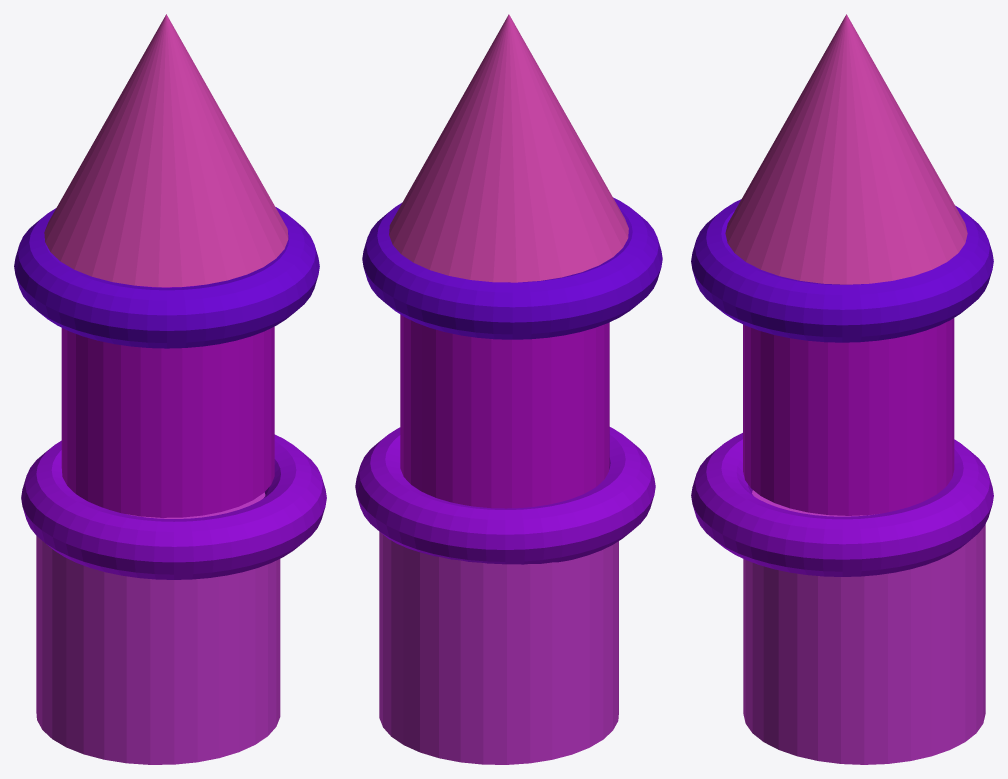
Rendered from quiz1.gltf.
3 views of the same model, side by side, from view 1: azimuth 30°, elevation 25°; view 2: azimuth 150°, elevation 25°; view 3: azimuth 270°, elevation 25° (orthographic).
Visible parts, largest first — view 1: Cylinder, Cone, Cylinder.001, Torus, Torus.001; view 2: Cylinder, Cone, Cylinder.001, Torus, Torus.001; view 3: Cylinder, Cone, Cylinder.001, Torus, Torus.001.
Boxes of the visible parts, x1,y1,x2,y2 form: Cylinder: (36,492,280,764); Cone: (44,14,288,287); Cylinder.001: (61,285,274,517); Torus: (21,434,326,579); Torus.001: (14,207,319,348); Cylinder: (379,532,618,764); Cone: (389,14,628,282); Cylinder.001: (400,314,609,508); Torus: (355,427,655,564); Torus.001: (362,197,662,339); Cylinder: (743,490,985,764); Cone: (725,14,967,284); Cylinder.001: (743,318,954,515); Torus: (691,433,993,576); Torus.001: (691,199,993,342).
Size of the model in its own units: 2.57 by 6.37 by 2.5.
